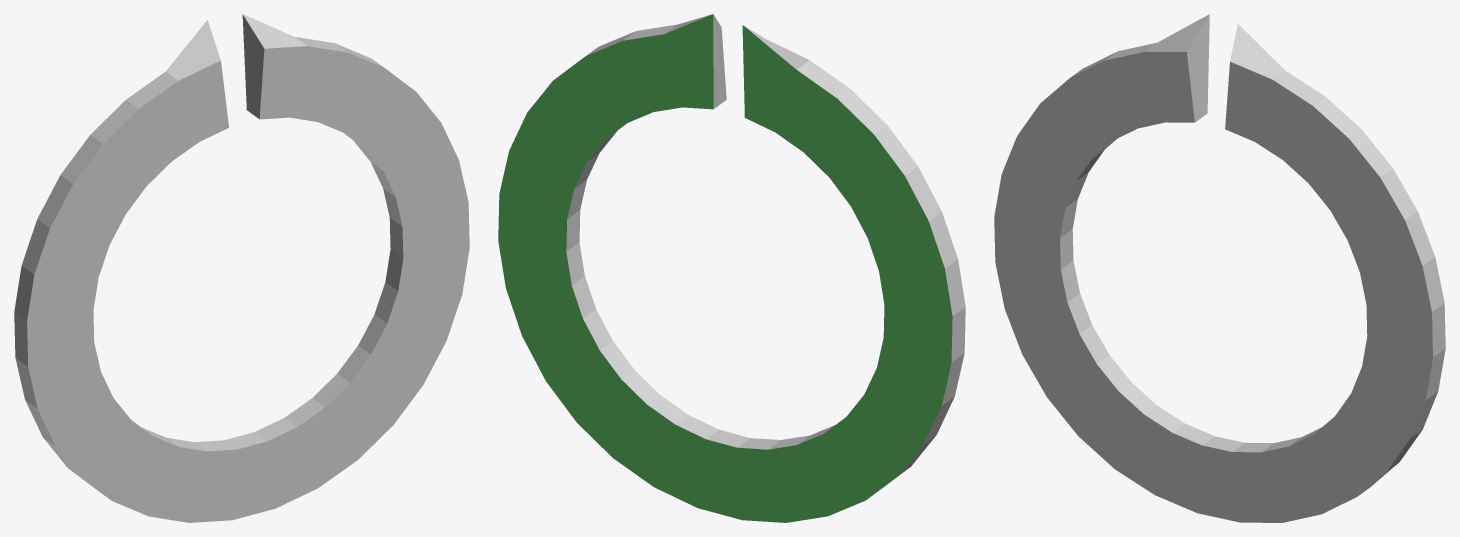
The model's file is RingWMarker.fbx.
3 views of the same model, side by side, from view 1: azimuth 30°, elevation 25°; view 2: azimuth 150°, elevation 25°; view 3: azimuth 330°, elevation 25° (orthographic). The views are drawn at different scales.
Parts seen in each view (by area): view 1: Cylinder; view 2: Cylinder; view 3: Cylinder.
Boxes of the visible parts, x1,y1,x2,y2 form: Cylinder: (14, 14, 469, 522); Cylinder: (498, 14, 965, 522); Cylinder: (994, 14, 1445, 522).
Size of the model in its own units: 199 by 210 by 14.6.
